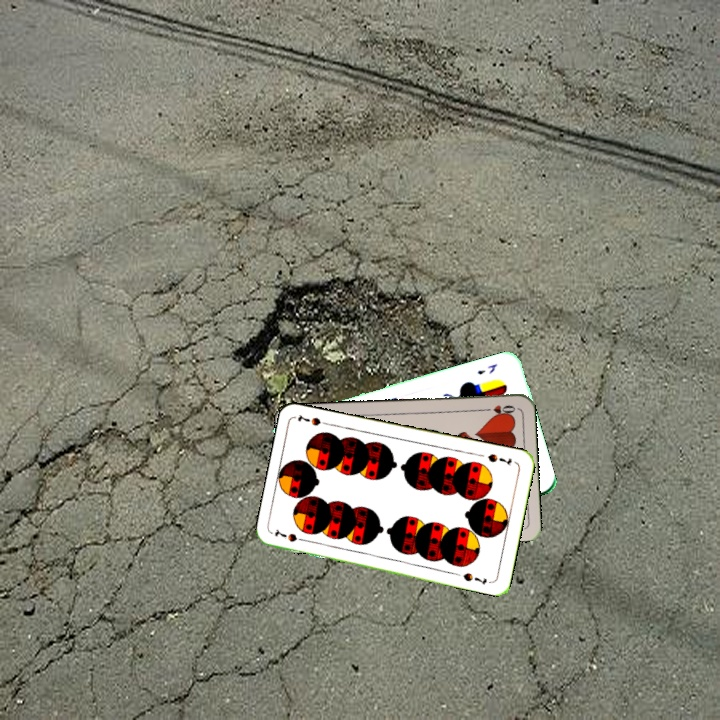EK: (473, 359, 500, 377)
HO: (478, 401, 518, 417)
S7: (271, 526, 310, 545), (483, 450, 514, 469)
